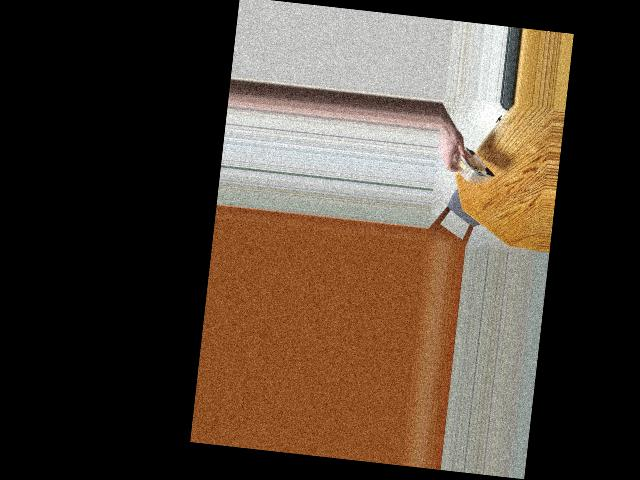cheese: (447, 140, 492, 194)
